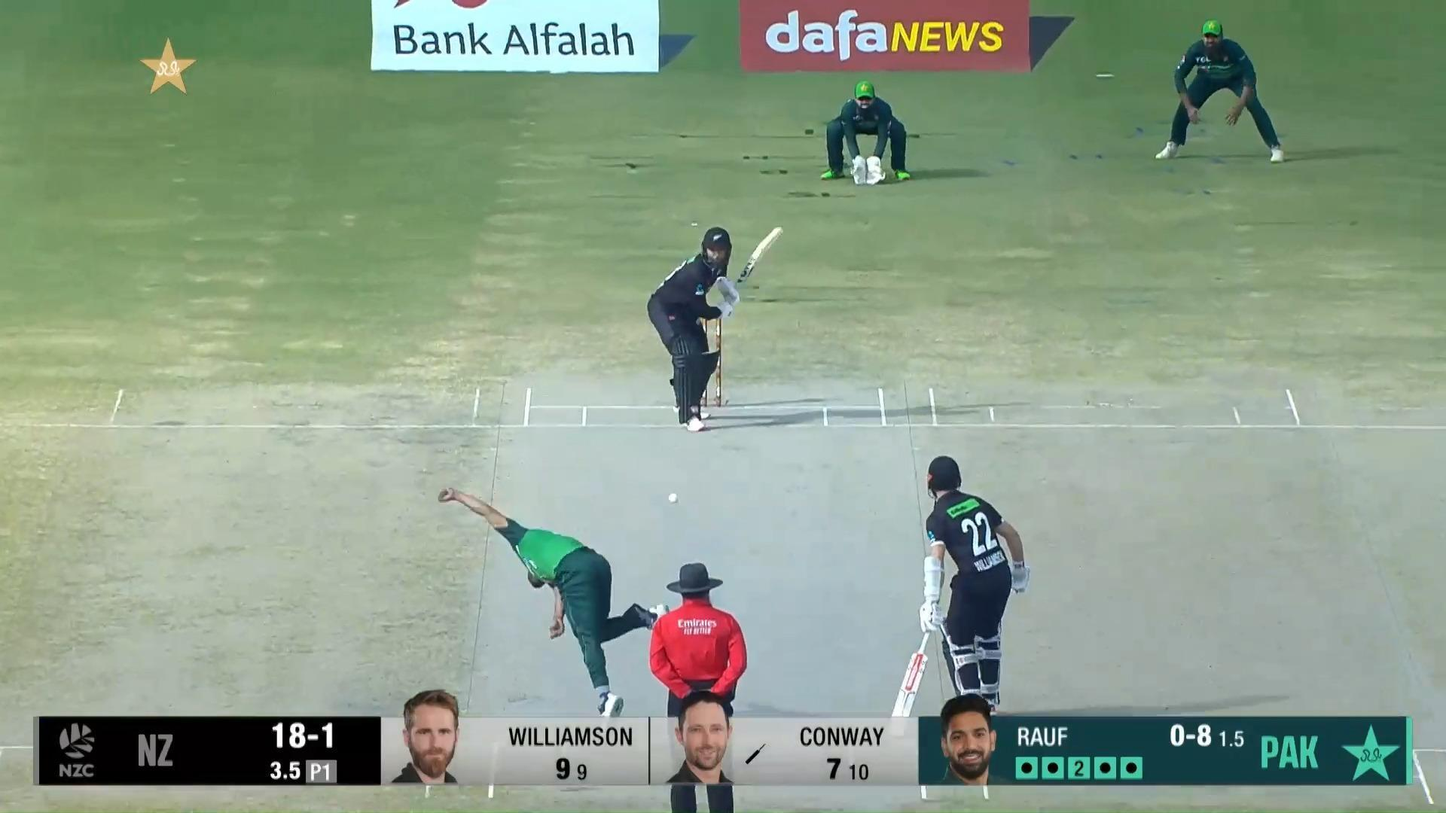BM 1: (647, 227, 784, 431)
BO: (438, 486, 670, 717)
